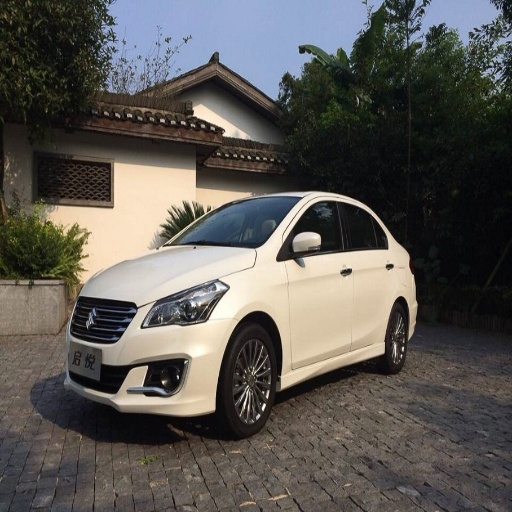front_bumper: (63, 281, 236, 412)
front_glass: (172, 196, 297, 246)
front_left_door: (281, 198, 353, 368)
